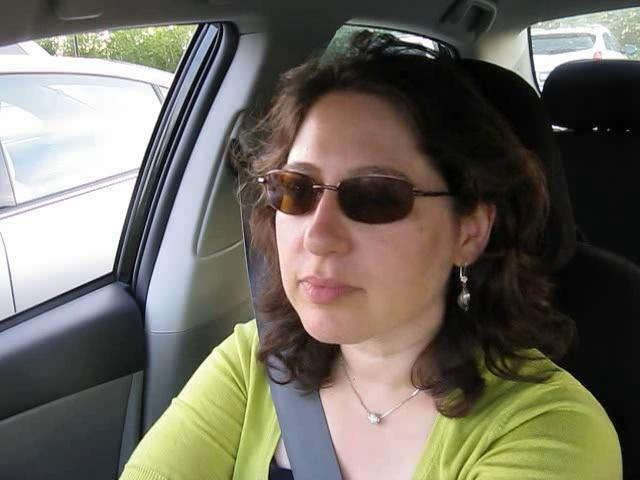no_yawn: (285, 267, 368, 309)
